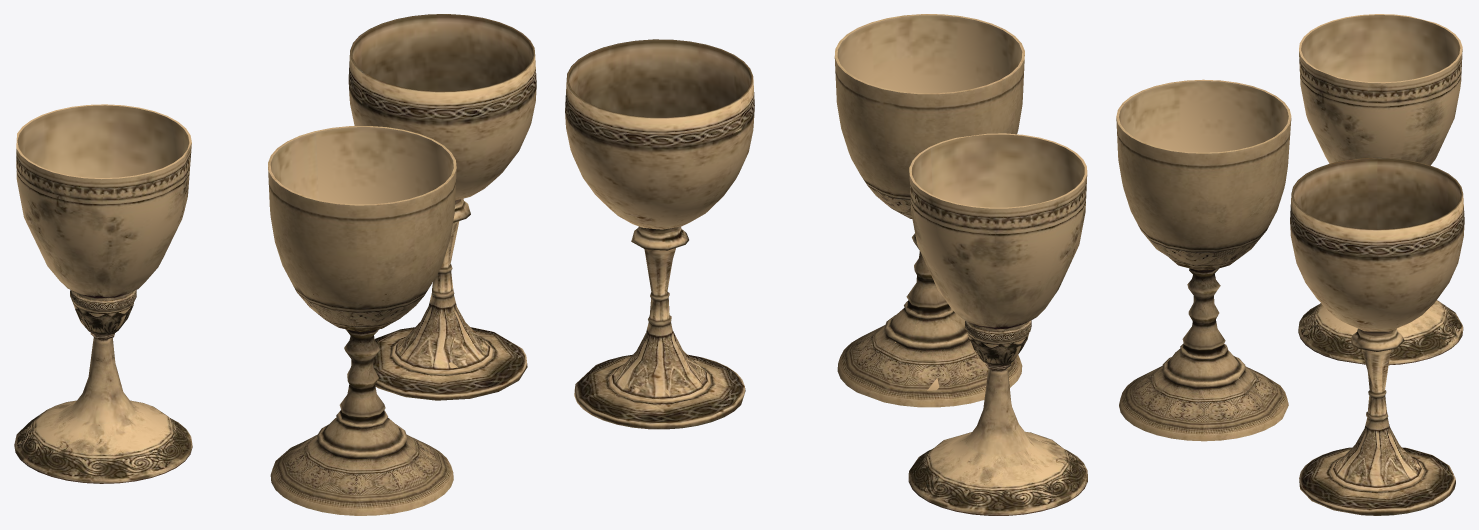
The model's file is brass_goblets.glb.
3 renders of one model, left to right at view 1: azimuth 30°, elevation 25°; view 2: azimuth 150°, elevation 25°; view 3: azimuth 270°, elevation 25°, orthographic. The views are drawn at different scales.
Visible parts, largest first — view 1: brass_goblet_01, brass_goblet_02, brass_goblet_03; view 2: brass_goblet_02, brass_goblet_03, brass_goblet_01; view 3: brass_goblet_01, brass_goblet_03, brass_goblet_02.
Part boxes in pixels (<box>): brass_goblet_01: <box>268,126,456,515</box>; brass_goblet_02: <box>14,104,192,483</box>; brass_goblet_03: <box>348,14,536,400</box>; brass_goblet_02: <box>908,133,1087,515</box>; brass_goblet_03: <box>565,39,754,429</box>; brass_goblet_01: <box>834,14,1024,407</box>; brass_goblet_01: <box>1116,79,1291,441</box>; brass_goblet_03: <box>1290,157,1464,515</box>; brass_goblet_02: <box>1298,14,1463,365</box>.
Size of the model in its own units: 0.4534 by 0.2734 by 0.2976.
Materials: 3 (3 with a texture image).
